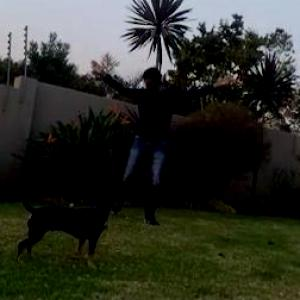takeoff: (88, 57, 236, 214)
